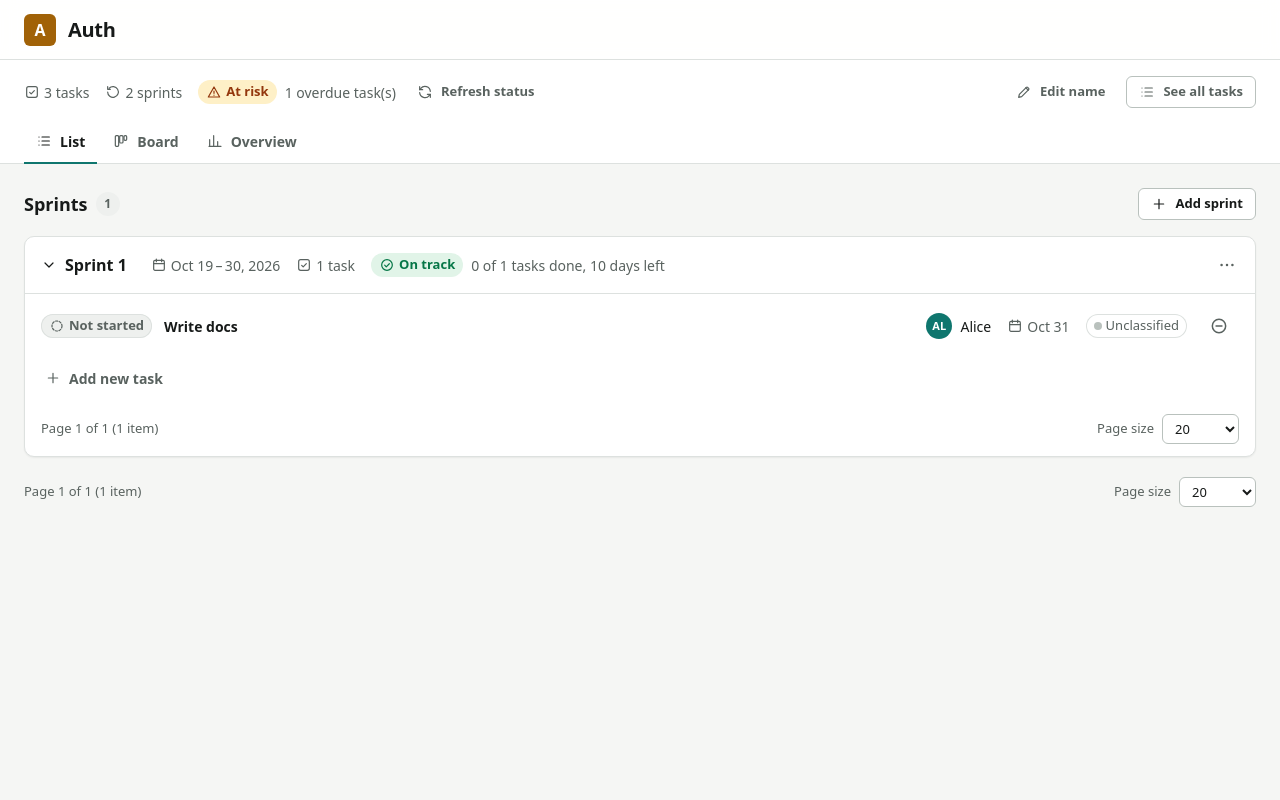
Test: Project page › removes a task from the sprint with DELETE and refetches
This screenshot has width=1280, height=800.
Click the button named "Remove from sprint" at [1219, 326], box [1199, 306, 1239, 346]
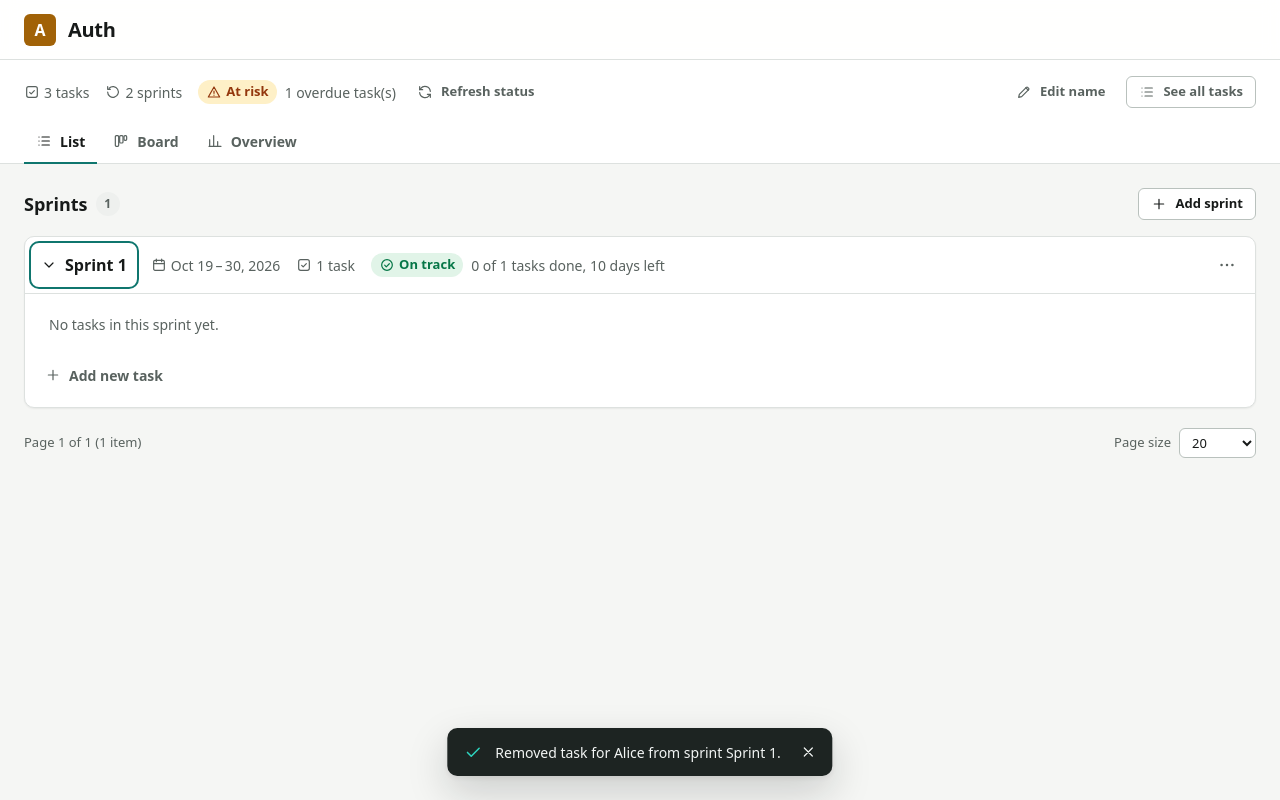
Now the text "No tasks in this sprint yet." is shown, box [49, 315, 219, 334]
